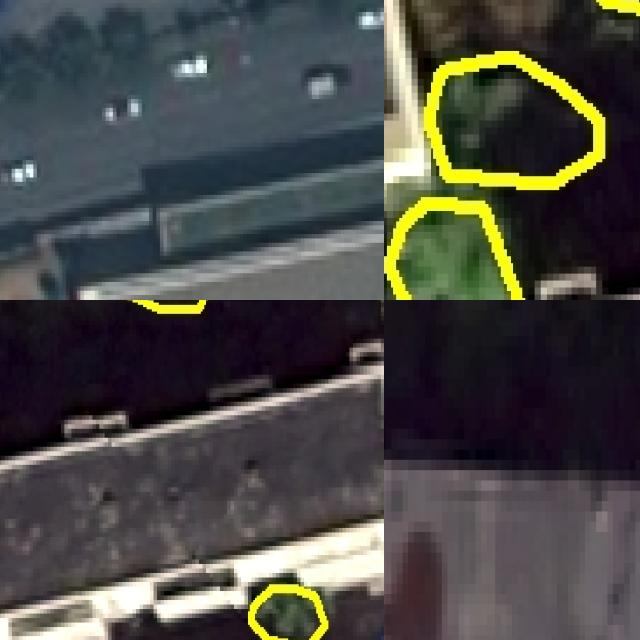trees: (425, 55, 600, 184), (388, 202, 520, 301), (42, 13, 99, 85), (251, 587, 326, 640), (1, 35, 42, 100), (103, 9, 150, 59)
